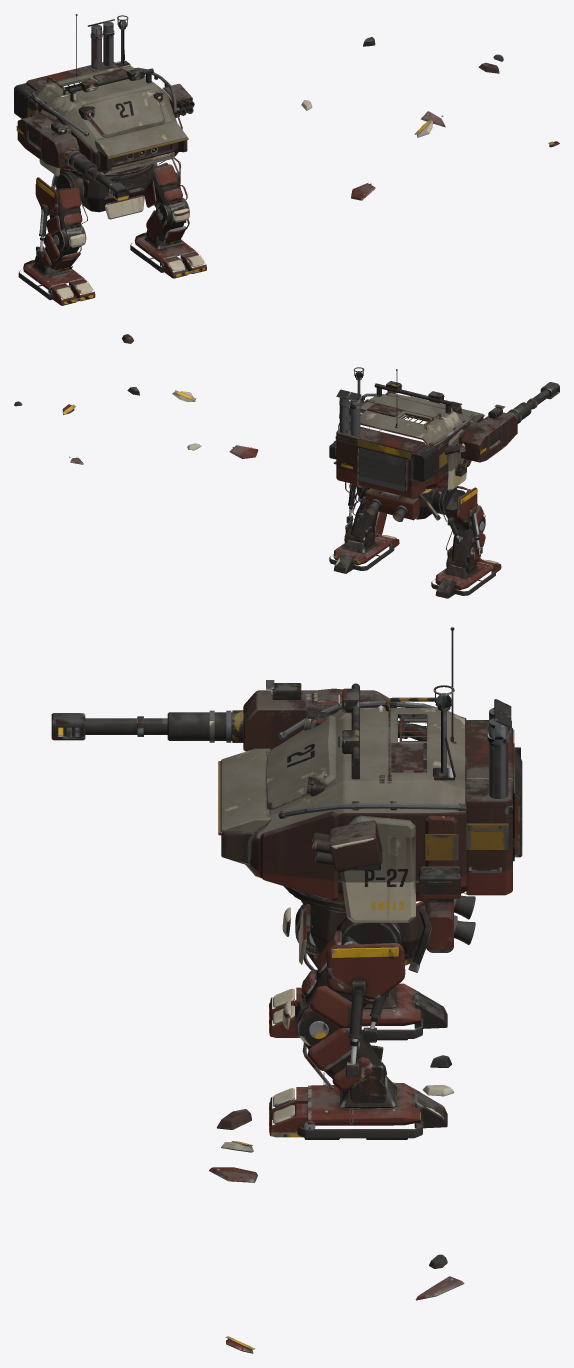
Rendered from enemy_mt.glb.
The picture shows the model from 3 angles, top to bottom: view 1: azimuth 30°, elevation 25°; view 2: azimuth 150°, elevation 25°; view 3: azimuth 270°, elevation 25°; orthographic projection. The views are drawn at different scales.
Visible parts, largest first — view 1: turret_geo, barrel_geo, pelvis_geo, thigh_R_geo, thigh_L_geo, foot_R_geo, foot_L_geo, shin_R_geo, shin_L_geo, eye_geo; view 2: turret_geo, barrel_geo, pelvis_geo, foot_L_geo, foot_R_geo, thigh_R_geo, shin_R_geo, shin_L_geo; view 3: turret_geo, barrel_geo, foot_L_geo, thigh_L_geo, pelvis_geo, shin_L_geo, foot_R_geo, turret_decals.
Boxes of the visible parts, left/top/right/bottom form: turret_geo: left=14, top=14, right=194, bottom=177; barrel_geo: left=17, top=110, right=129, bottom=200; pelvis_geo: left=51, top=163, right=157, bottom=219; thigh_R_geo: left=35, top=177, right=87, bottom=250; thigh_L_geo: left=144, top=157, right=189, bottom=225; foot_R_geo: left=18, top=259, right=95, bottom=305; foot_L_geo: left=130, top=232, right=206, bottom=278; shin_R_geo: left=35, top=233, right=81, bottom=272; shin_L_geo: left=146, top=210, right=189, bottom=245; eye_geo: left=78, top=92, right=170, bottom=162; turret_geo: left=329, top=369, right=484, bottom=498; barrel_geo: left=444, top=382, right=559, bottom=462; pelvis_geo: left=358, top=478, right=457, bottom=520; foot_L_geo: left=329, top=530, right=399, bottom=573; foot_R_geo: left=431, top=557, right=501, bottom=598; thigh_R_geo: left=443, top=486, right=485, bottom=532; shin_R_geo: left=446, top=527, right=485, bottom=573; shin_L_geo: left=344, top=500, right=386, bottom=548; turret_geo: left=218, top=627, right=522, bottom=922; barrel_geo: left=51, top=680, right=426, bottom=751; foot_L_geo: left=269, top=1072, right=447, bottom=1139; thigh_L_geo: left=282, top=930, right=405, bottom=1046; pelvis_geo: left=283, top=886, right=453, bottom=972; shin_L_geo: left=302, top=1027, right=386, bottom=1108; foot_R_geo: left=269, top=983, right=447, bottom=1040; turret_decals: left=287, top=705, right=453, bottom=909.
Bounding box in the file's own units: 12.52 × 5.75 × 5.6.
3 materials, 3 textured.
